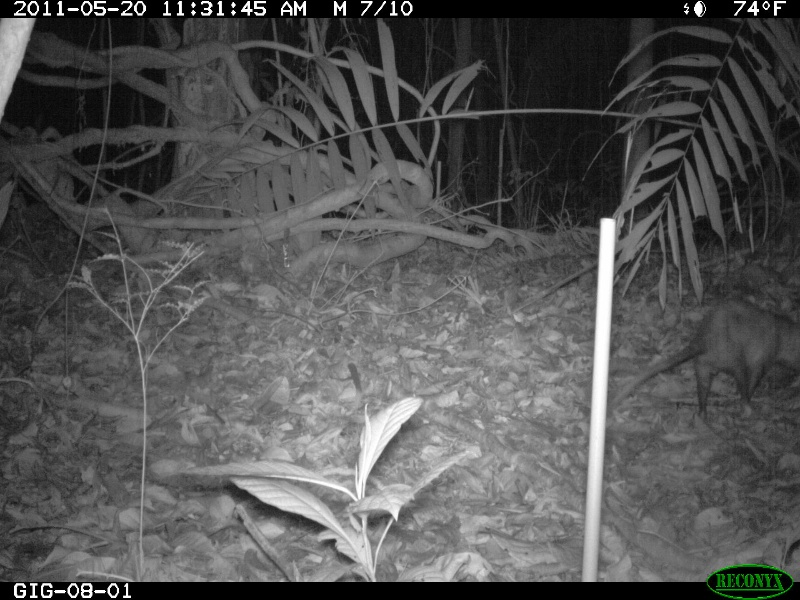opossum: (609, 303, 800, 419)
